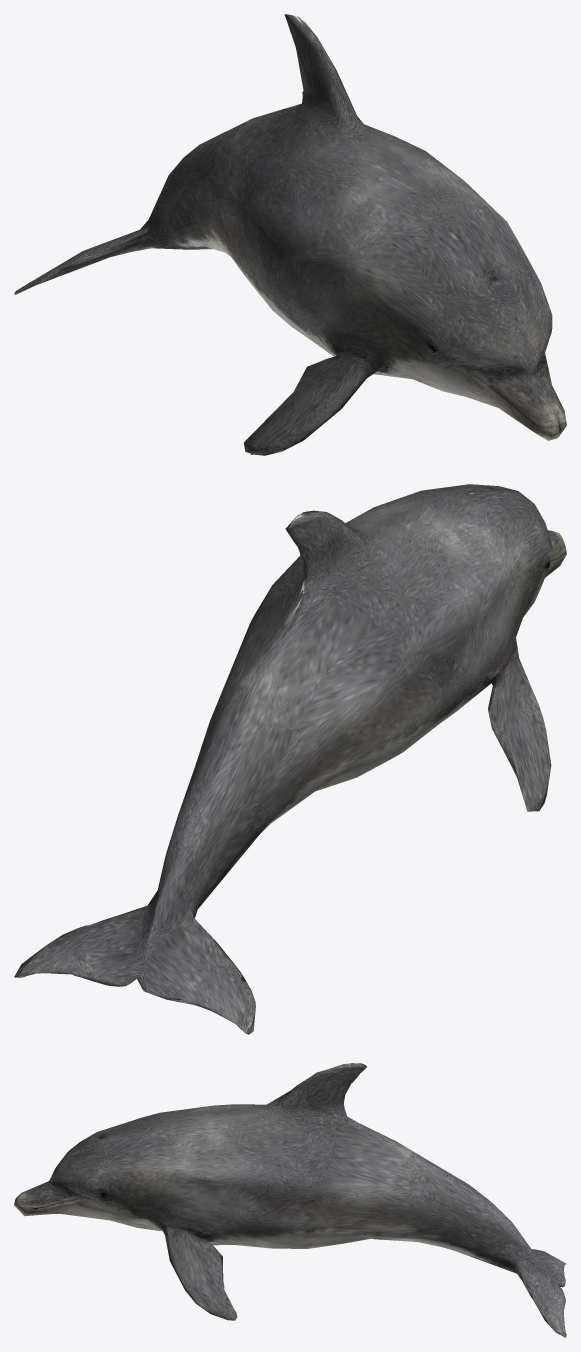
The model's file is delfin.glb.
The picture shows the model from 3 angles, top to bottom: view 1: azimuth 30°, elevation 25°; view 2: azimuth 150°, elevation 25°; view 3: azimuth 270°, elevation 25°; orthographic projection. The views are drawn at different scales.
Size of the model in its own units: 0.7493 by 0.9036 by 1.9.
Materials: 1 (1 with a texture image).
